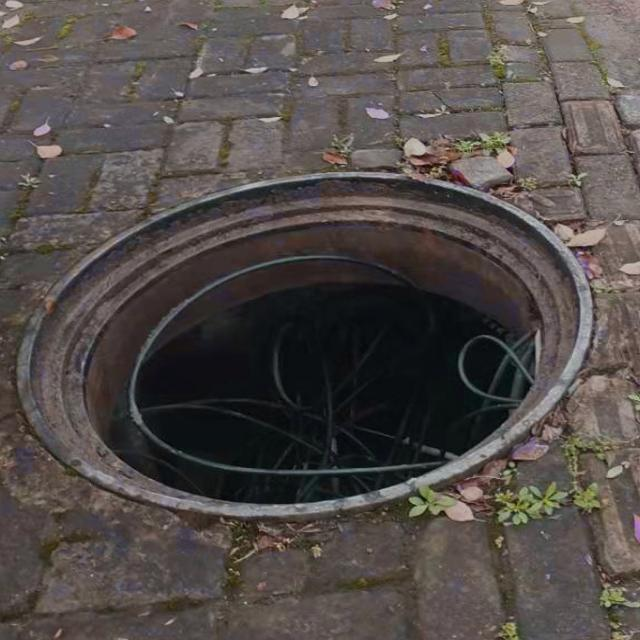lose: (10, 168, 593, 528)
